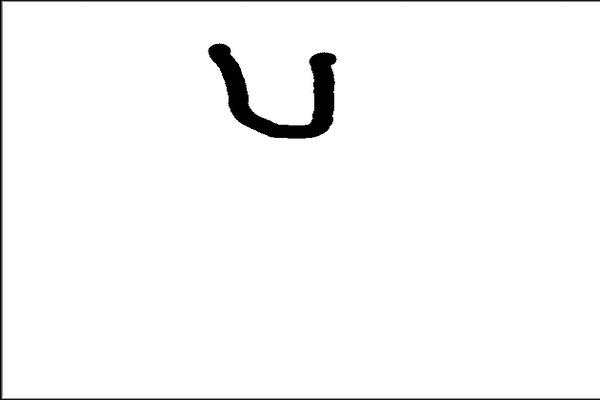U: (202, 29, 351, 143)
